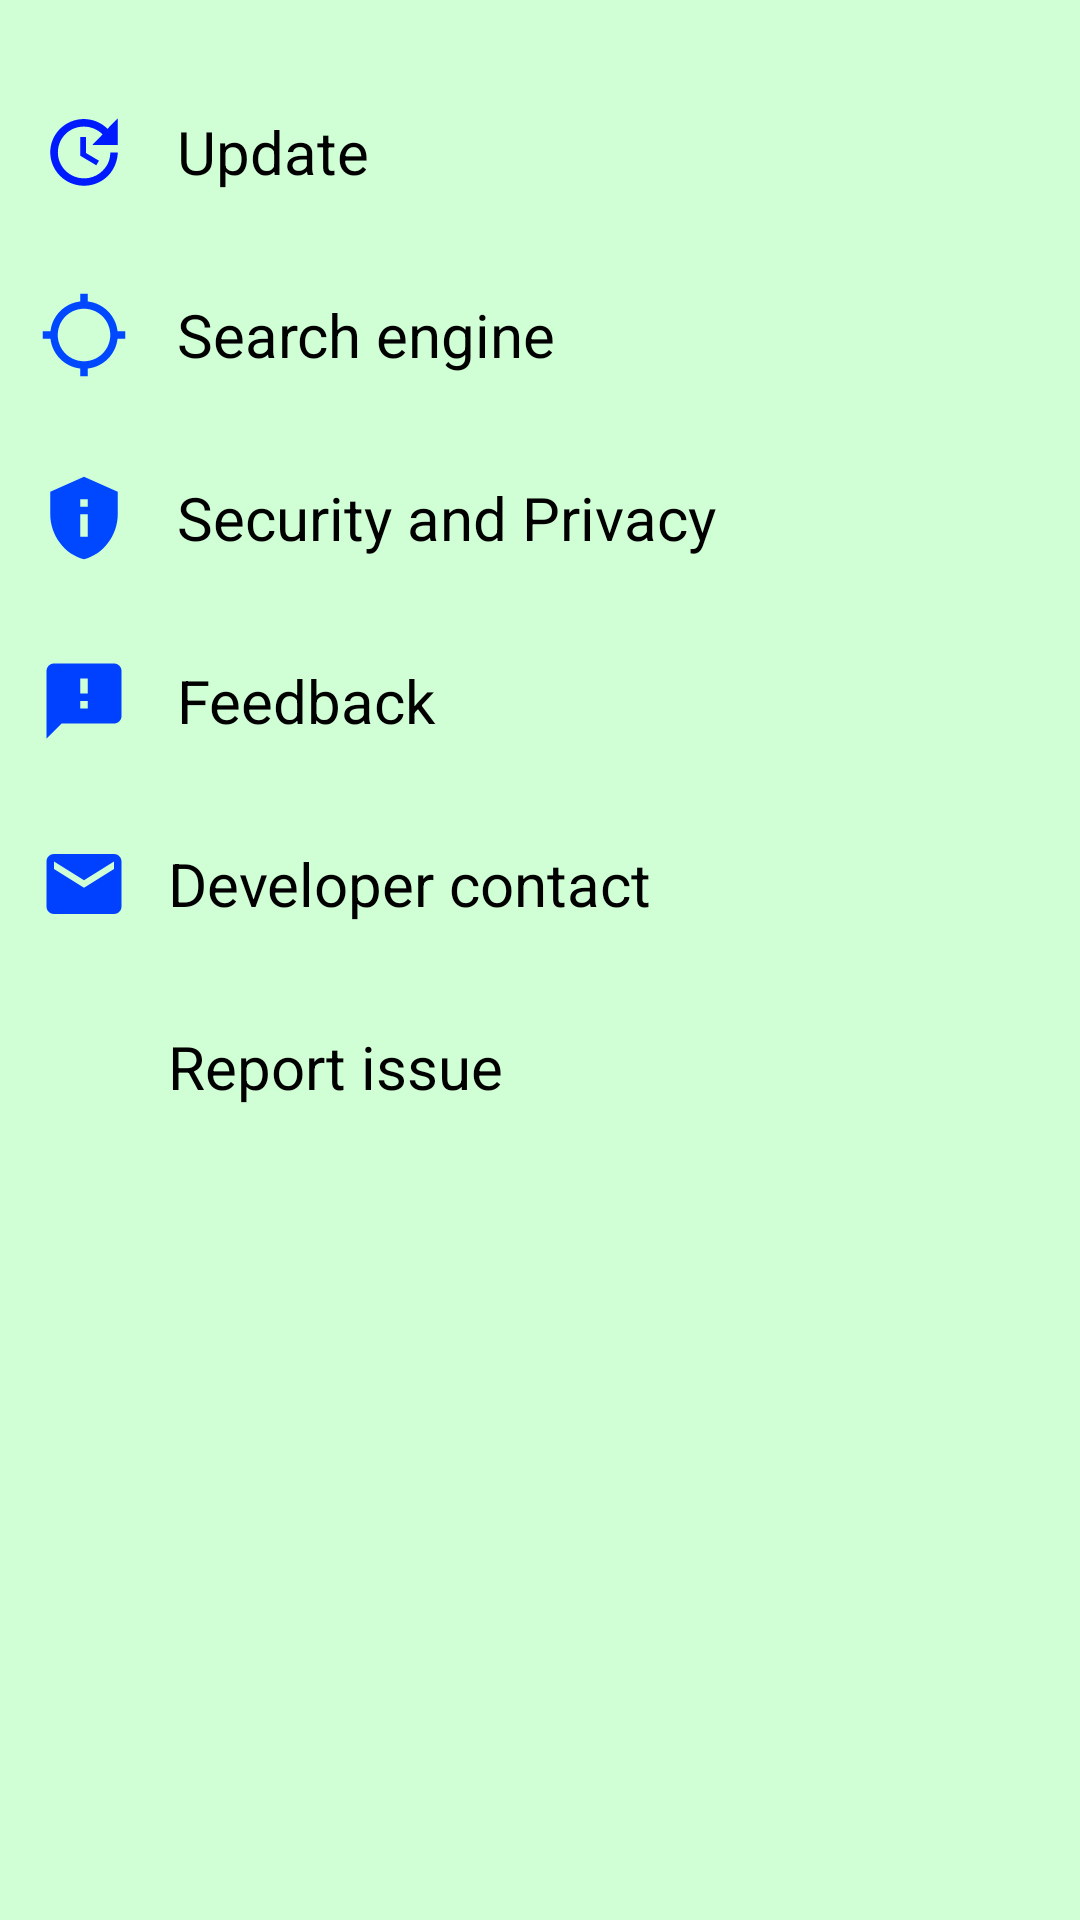

Where icons sit on this 1080px x 1920px app screen, as (x1, y1, x2, y2):
location searching: (42, 293, 126, 377)
privacy tip: (50, 477, 118, 560)
